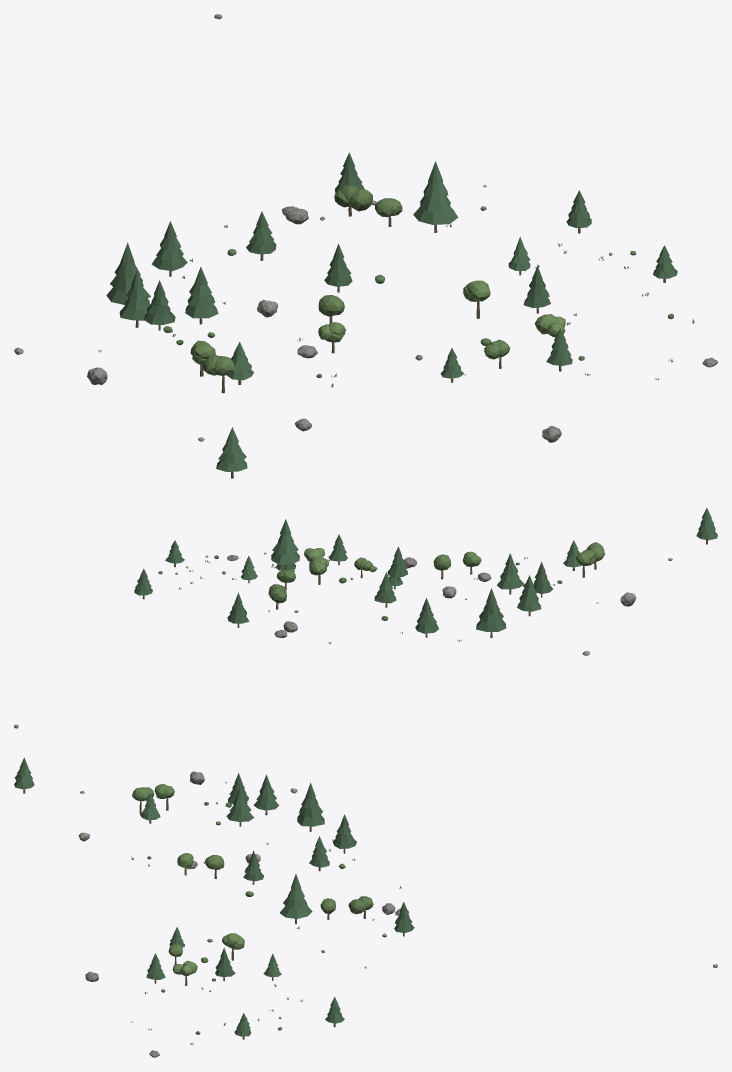
The model's file is arch_land_scatter_c23_18.glb.
3 renders of one model, top to bottom at view 1: azimuth 30°, elevation 25°; view 2: azimuth 150°, elevation 25°; view 3: azimuth 270°, elevation 25°, orthographic. The views are drawn at different scales.
Visible parts, largest first — view 1: arch_land_scatter_c23_18; view 2: arch_land_scatter_c23_18; view 3: arch_land_scatter_c23_18.
Part boxes in pixels (bbox=[...]): arch_land_scatter_c23_18: bbox=[14, 14, 717, 478]; arch_land_scatter_c23_18: bbox=[14, 508, 717, 728]; arch_land_scatter_c23_18: bbox=[14, 757, 717, 1057].
Size of the model in its own units: 152 by 40.45 by 210.
